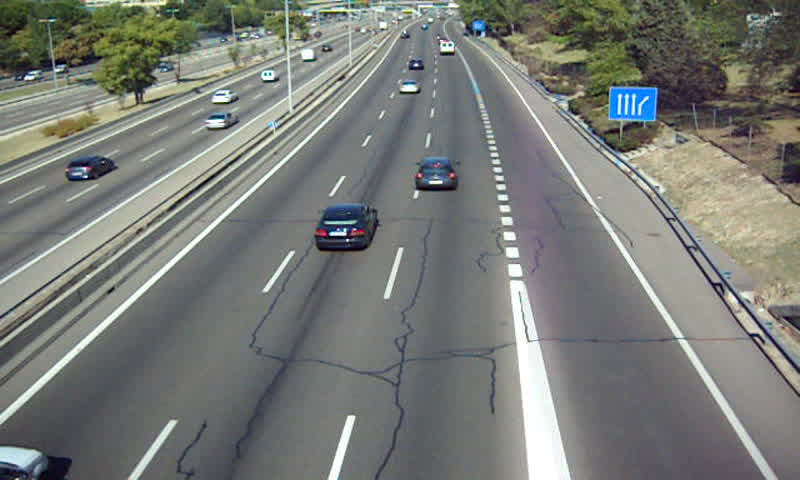car: (315, 205, 378, 251), (416, 159, 458, 191), (397, 79, 420, 95), (406, 59, 424, 74)
